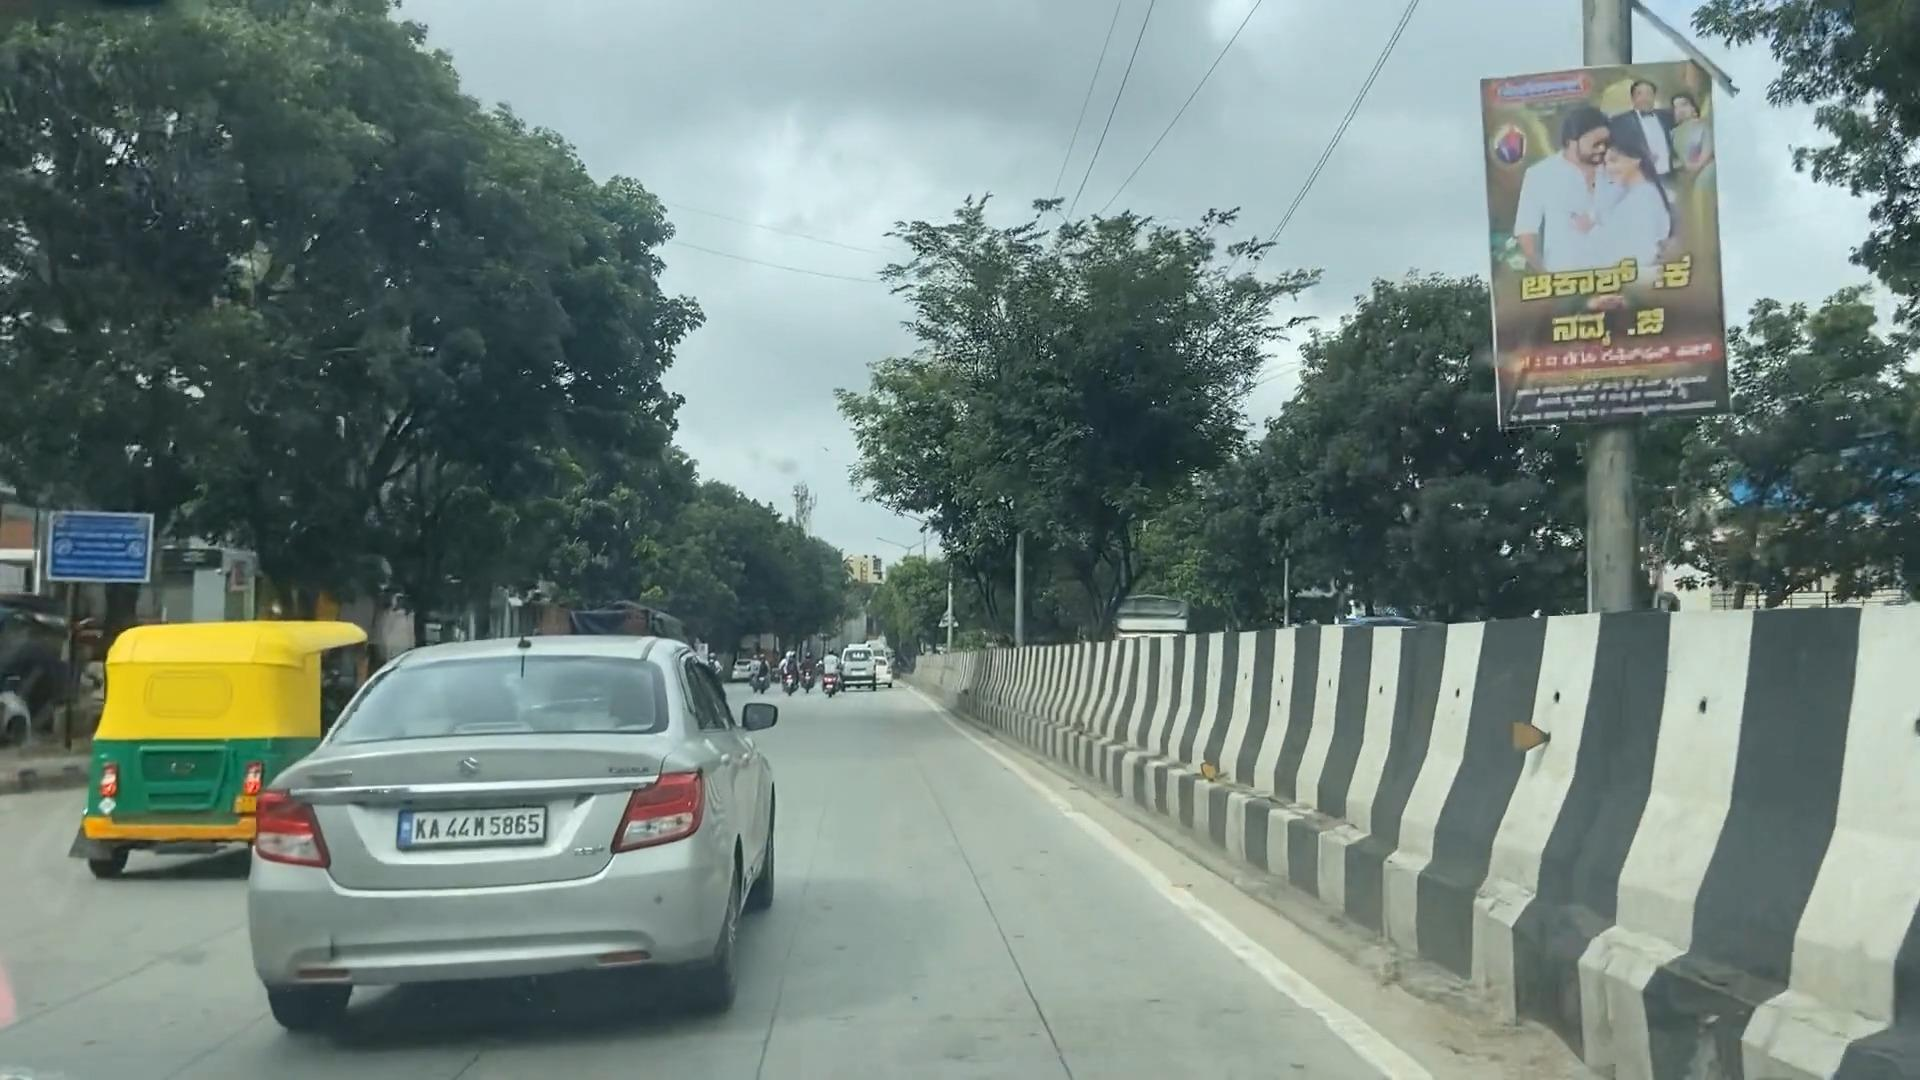LMV: (273, 633, 795, 986), (53, 618, 342, 856)
